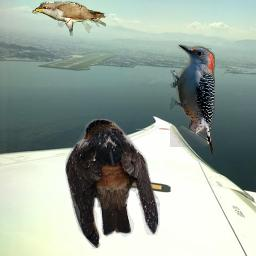Cuckoo: (32, 1, 106, 36)
Swallow: (65, 119, 160, 249)
Woodpecker: (170, 42, 215, 155)
